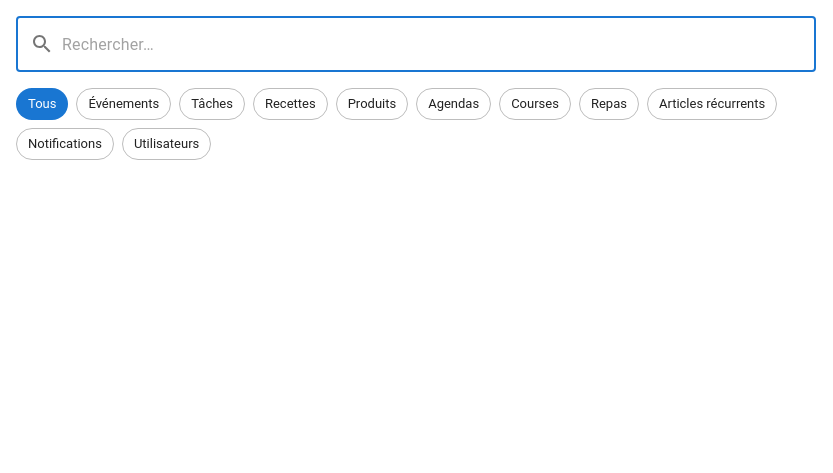
Scenario: SearchPage › shows pagination when multiple pages
Type "test" into the field with placeholder "Rechercher…". click: (439, 44)
box: [62,16,816,72]
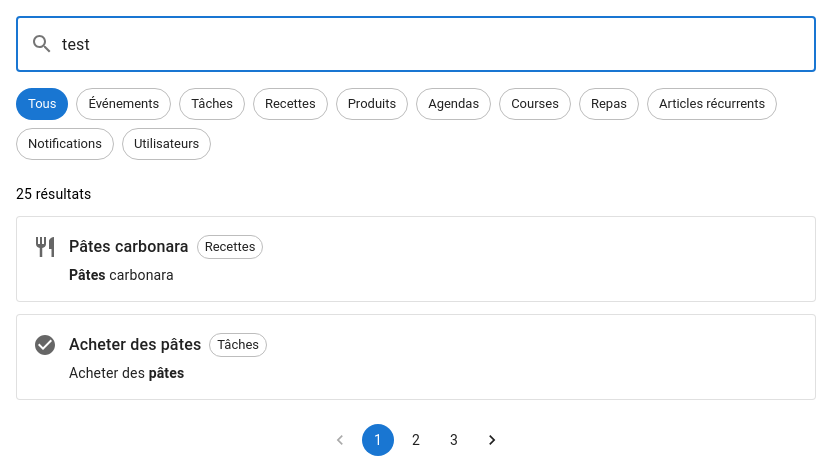
expect the navigation bar is shown: met, box [321,424,511,456]
